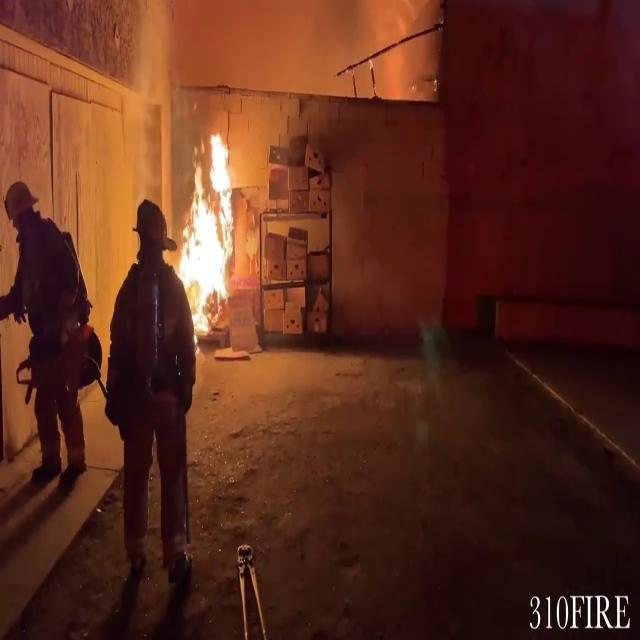Fire: (178, 127, 240, 327)
